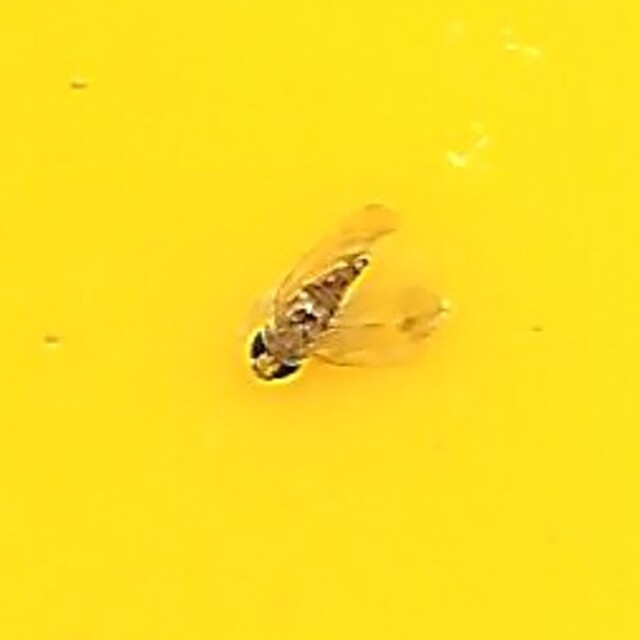Hemiptera: (252, 249, 388, 391)
